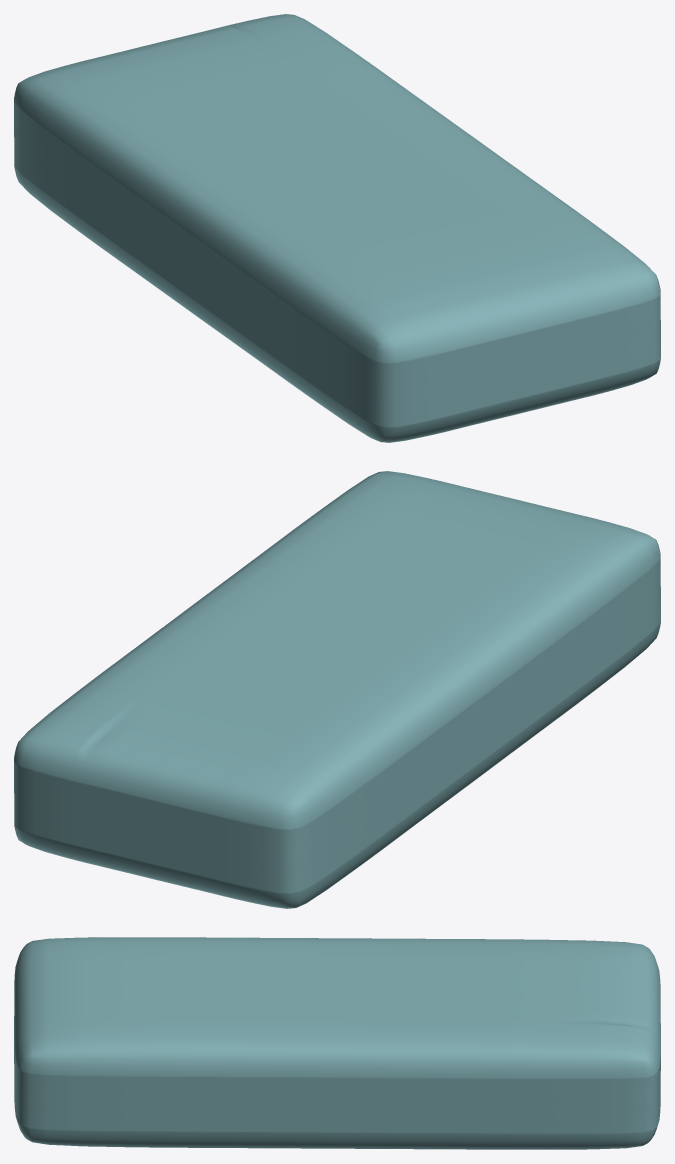
The model's file is bar_of_soap.glb.
3 renders of one model, top to bottom at view 1: azimuth 30°, elevation 25°; view 2: azimuth 150°, elevation 25°; view 3: azimuth 270°, elevation 25°, orthographic. The views are drawn at different scales.
Parts seen in each view (by area): view 1: Plane_2; view 2: Plane_2; view 3: Plane_2.
Part boxes in pixels (box(x1,y1,x2,y2)): Plane_2: box(14, 14, 660, 442); Plane_2: box(14, 471, 660, 908); Plane_2: box(14, 937, 660, 1149).
Size of the model in its own units: 0.905 by 0.3795 by 2.
